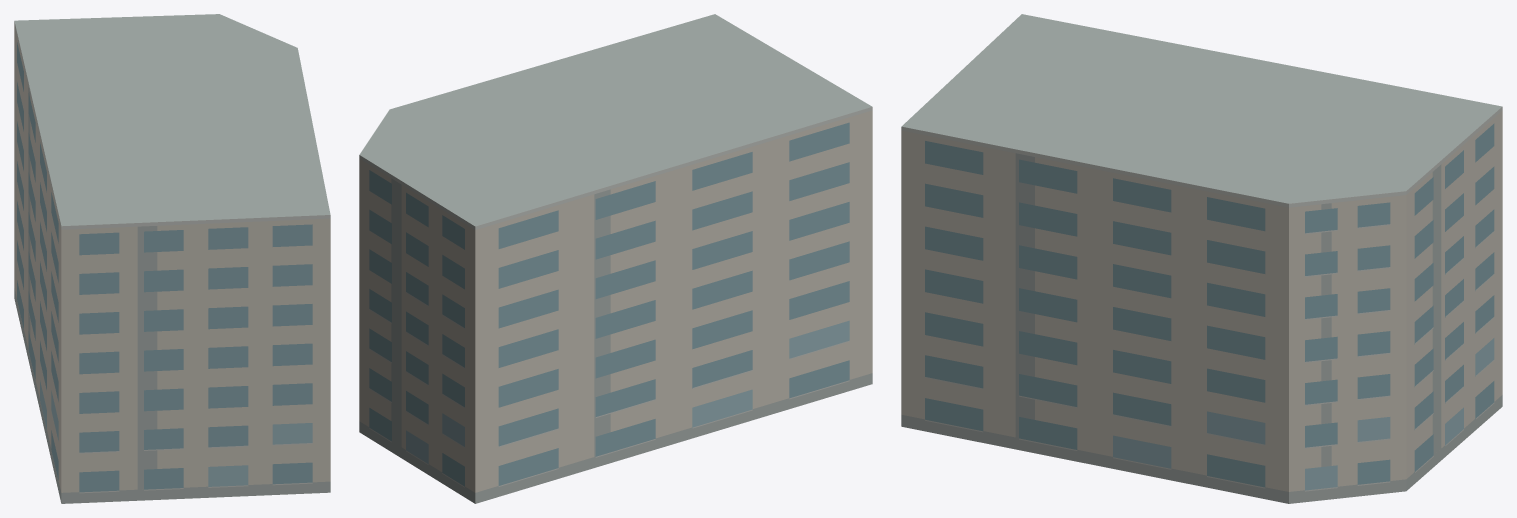
The model's file is survey-upis-32553150.glb.
The picture shows the model from 3 angles, left to right: view 1: azimuth 30°, elevation 25°; view 2: azimuth 150°, elevation 25°; view 3: azimuth 270°, elevation 25°; orthographic projection. The views are drawn at different scales.
Visible parts, largest first — view 1: survey-upis-32553150.tmp; view 2: survey-upis-32553150.tmp; view 3: survey-upis-32553150.tmp.
Boxes of the visible parts, x1,y1,x2,y2 form: survey-upis-32553150.tmp: (14, 14, 330, 503); survey-upis-32553150.tmp: (359, 14, 872, 503); survey-upis-32553150.tmp: (901, 14, 1502, 503).
Bounding box in the file's own units: 25.24 × 18.6 × 33.77.
